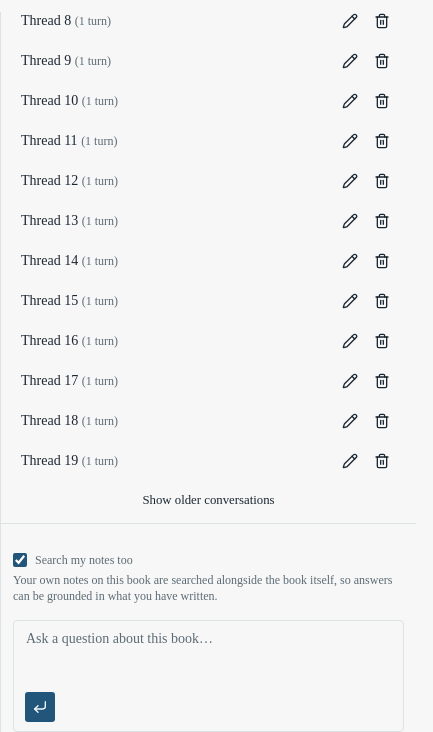
Test: ReaderPanel conversation list › reaches an older conversation than one page holds
This screenshot has width=433, height=732.
(page scrolled)
Click the button "Show older conversations" at (208, 501), box [13, 487, 404, 515]
(page scrolled)
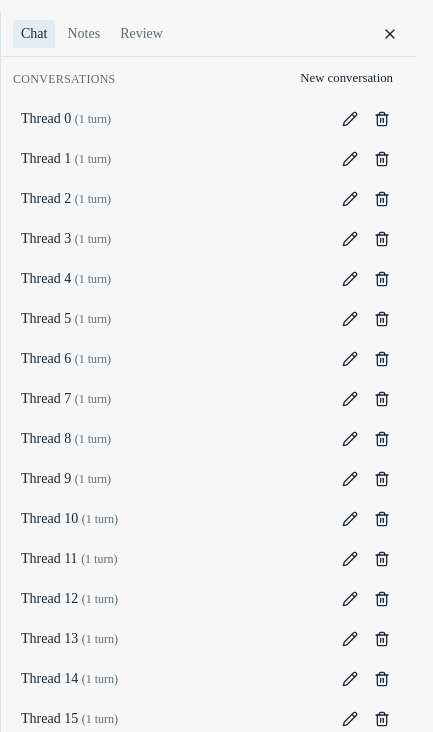
Now the button with aria-label "Resume Thread 0" is shown, box [21, 109, 332, 129]
Now the button "Show older conversations" is gone
